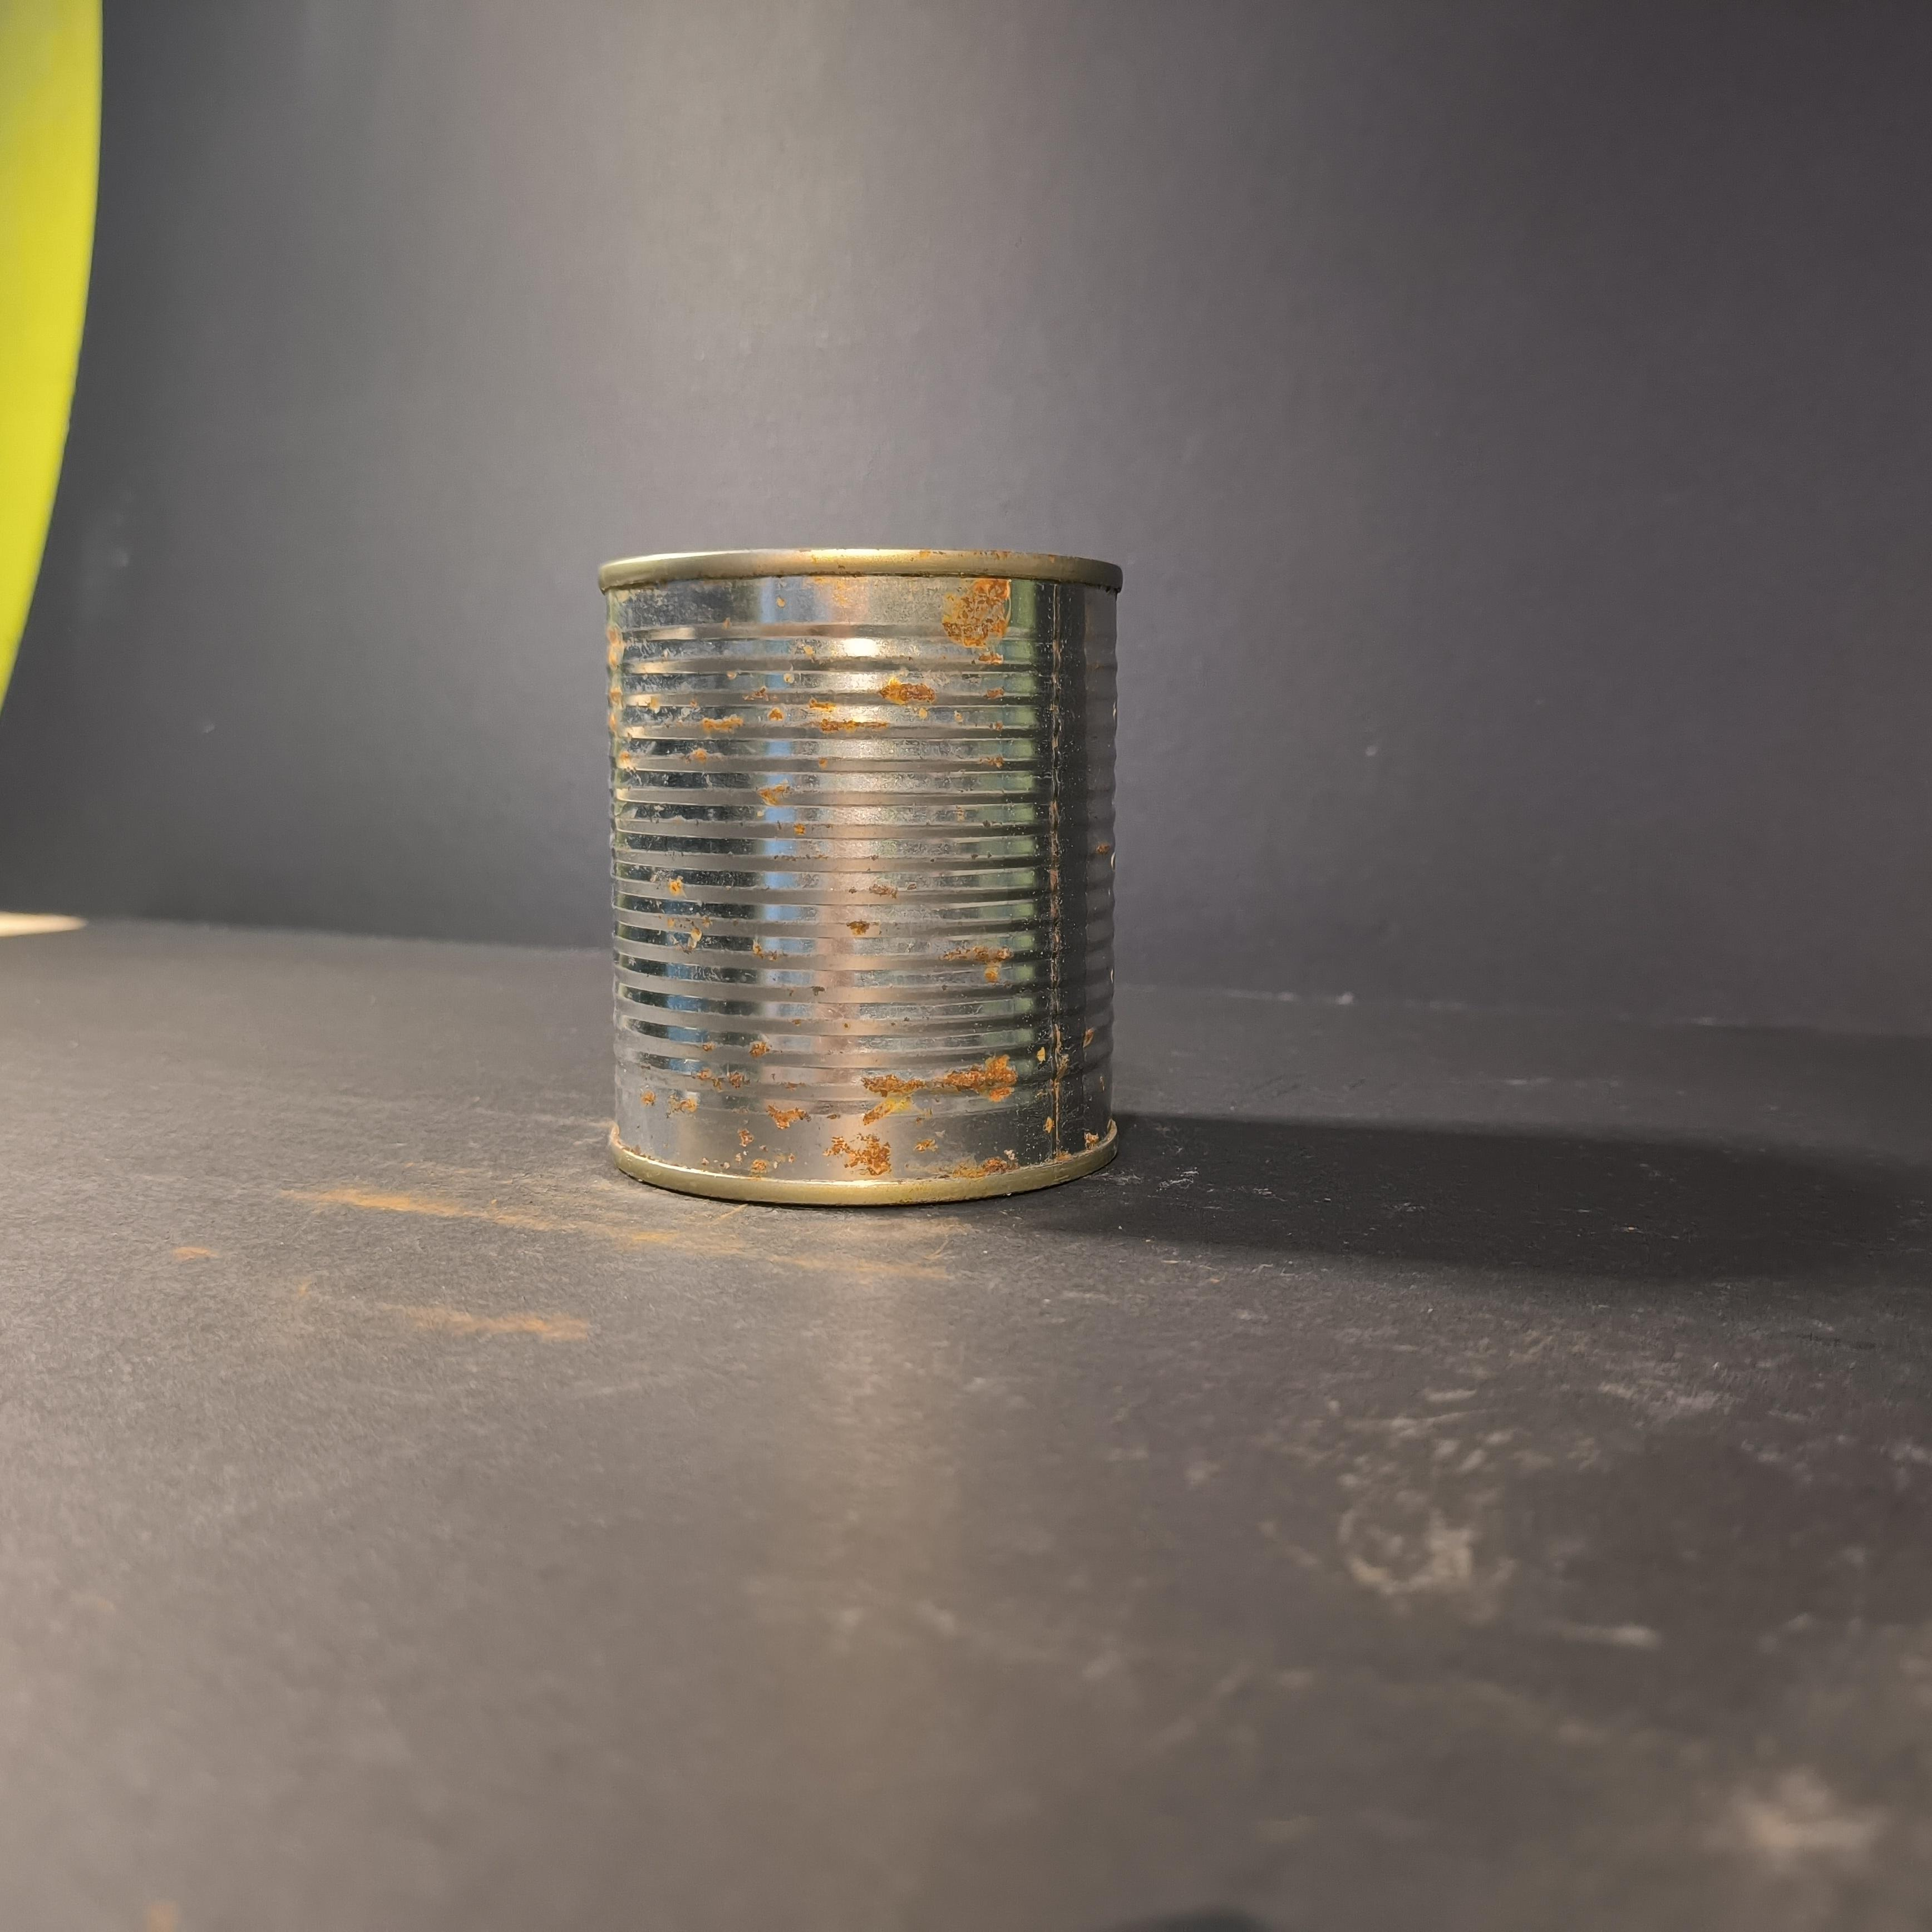Rusted: (584, 506, 1148, 1228)
